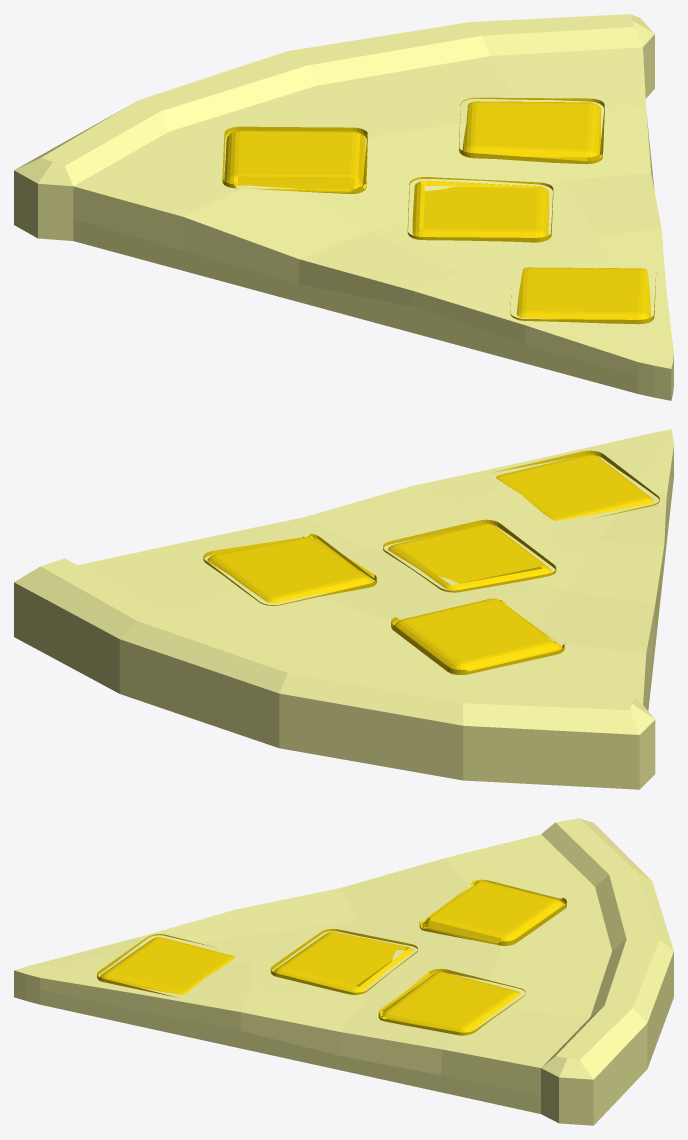
The model's file is YellowSlice.fbx.
3 views of the same model, one above another, from view 1: azimuth 30°, elevation 25°; view 2: azimuth 150°, elevation 25°; view 3: azimuth 270°, elevation 25° (orthographic). The views are drawn at different scales.
Parts seen in each view (by area): view 1: Pizza_Slice; view 2: Pizza_Slice; view 3: Pizza_Slice.
Part boxes in pixels (x1=…): Pizza_Slice: x1=14, y1=14, x2=673, y2=400; Pizza_Slice: x1=14, y1=429, x2=673, y2=789; Pizza_Slice: x1=14, y1=818, x2=673, y2=1125.
Bounding box in the file's own units: 107 × 11.28 × 116.
